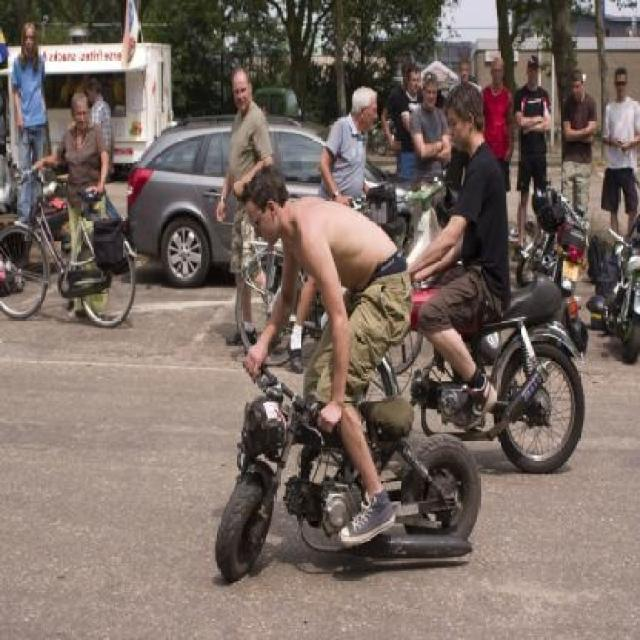Car: (125, 115, 408, 292)
Cycle: (204, 169, 480, 604), (400, 75, 591, 481), (0, 83, 151, 328)
